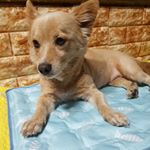puppy: (17, 1, 150, 142)
